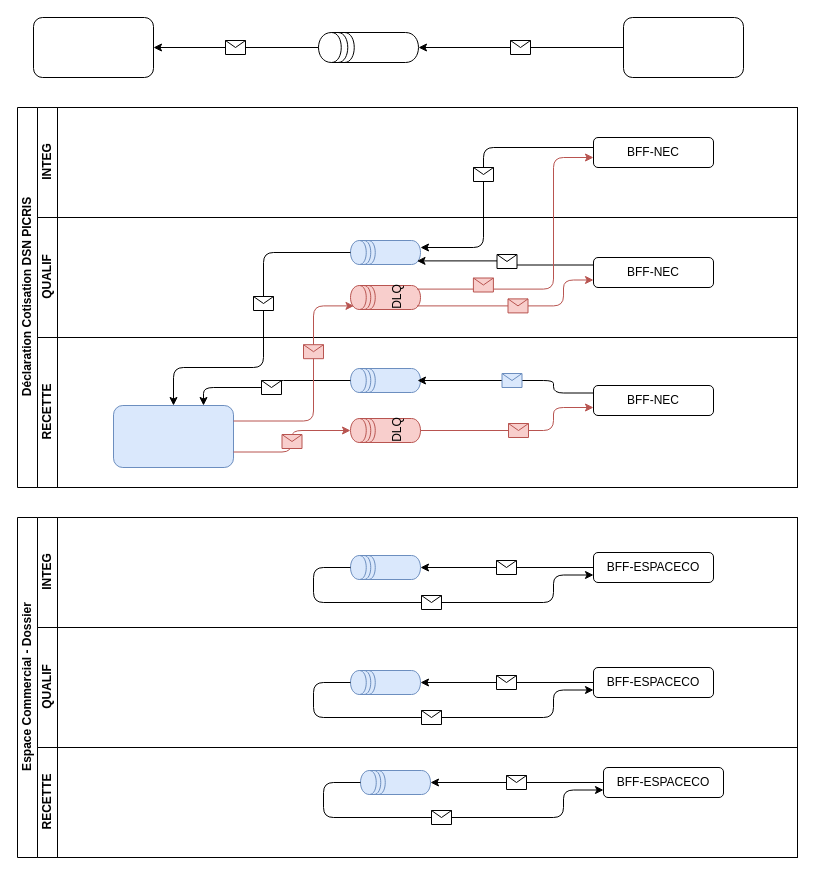
This 815x875 diagram has some shape labels left out. The box of each missing label's shape, as (x1, y1, x2, y2) in pixels:
Consommateur de Message: (32, 16, 154, 78)
PICRIS: (112, 404, 234, 468)
Producteur de Message: (622, 16, 744, 78)
